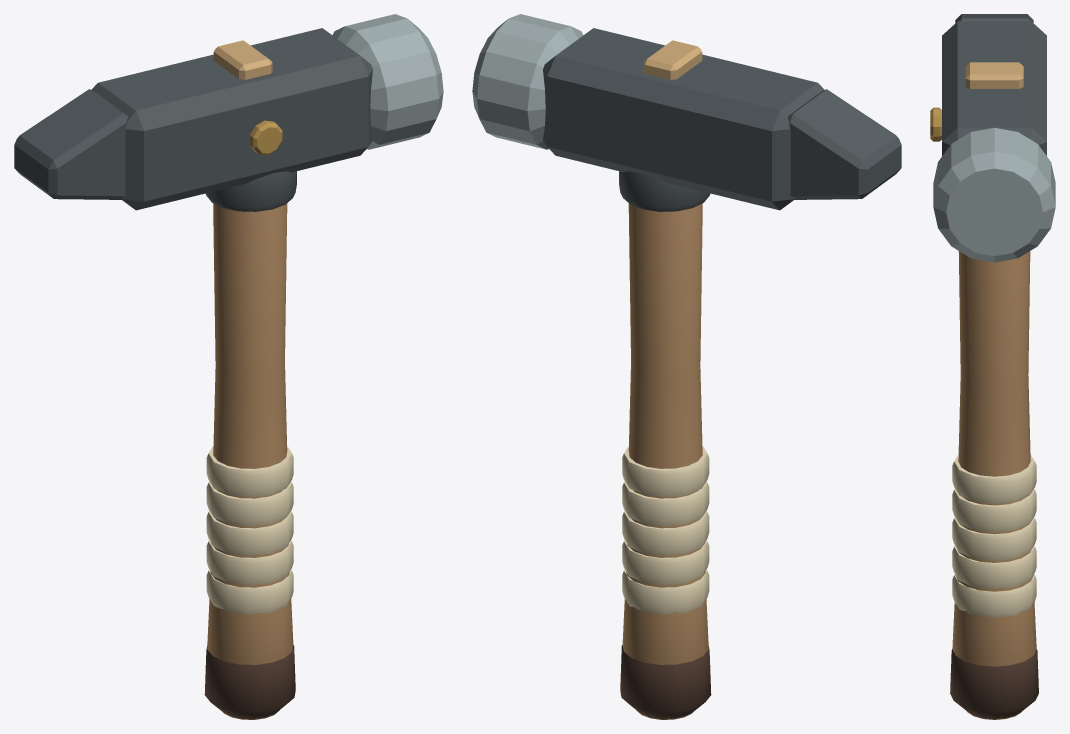
File: tool_hammer.glb
3 views of the same model, side by side, from view 1: azimuth 30°, elevation 25°; view 2: azimuth 150°, elevation 25°; view 3: azimuth 270°, elevation 25° (orthographic). The views are drawn at different scales.
Parts seen in each view (by area): view 1: tool_hammer; view 2: tool_hammer; view 3: tool_hammer.
Boxes of the visible parts, x1,y1,x2,y2 form: tool_hammer: (14, 14, 443, 719); tool_hammer: (472, 14, 901, 719); tool_hammer: (930, 14, 1055, 719).
Bounding box in the file's own units: 0.276 × 0.447 × 0.08.
